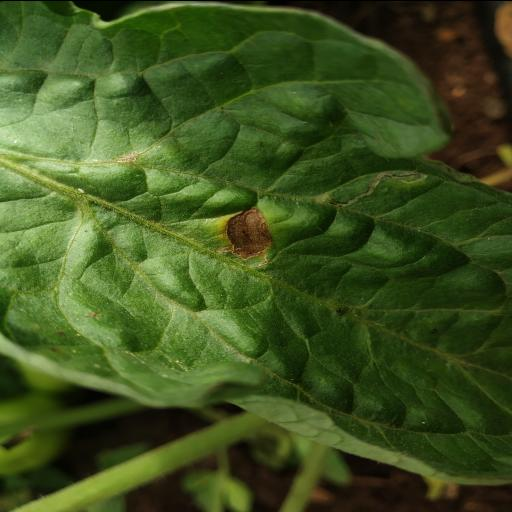disease_tomato: (0, 0, 512, 491)
